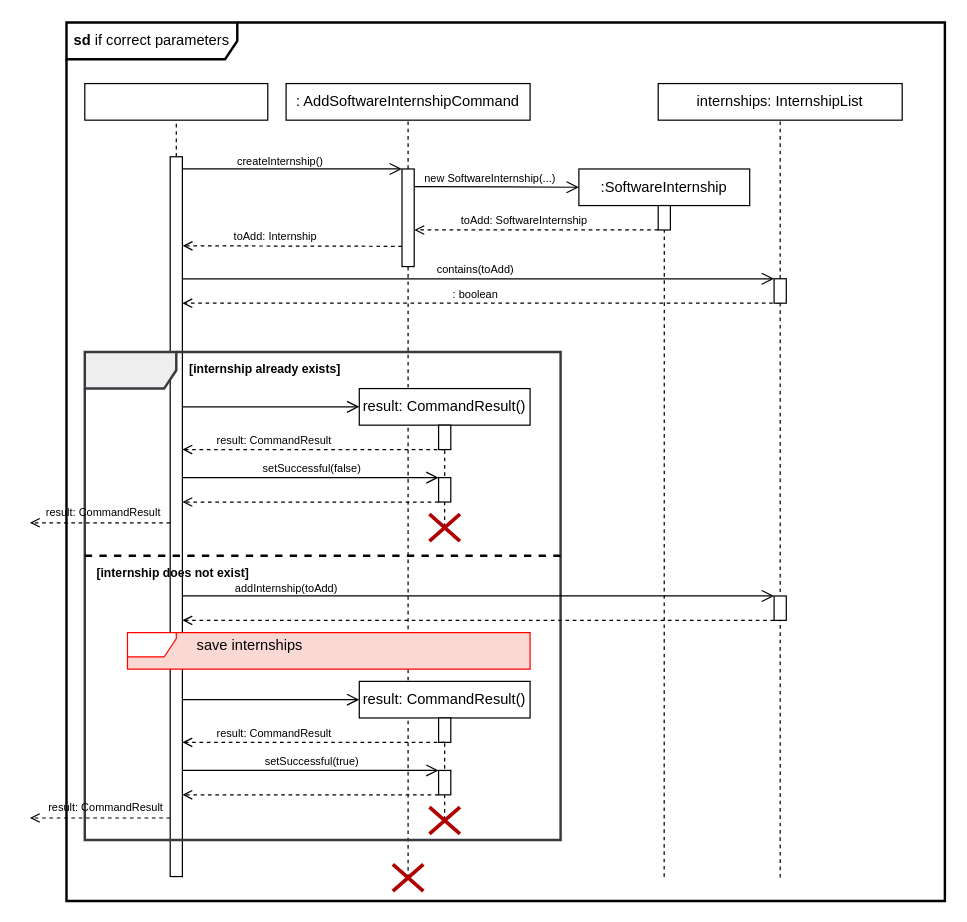
Image size: 967x922. Some labels were removed from this diagram. The box of each missing label's shape, as (x1, y1, x2, y2) in pixels:
: AddInternshipCommand: (84, 82, 268, 120)
alt: (83, 350, 561, 841)
ref: (126, 631, 530, 669)
